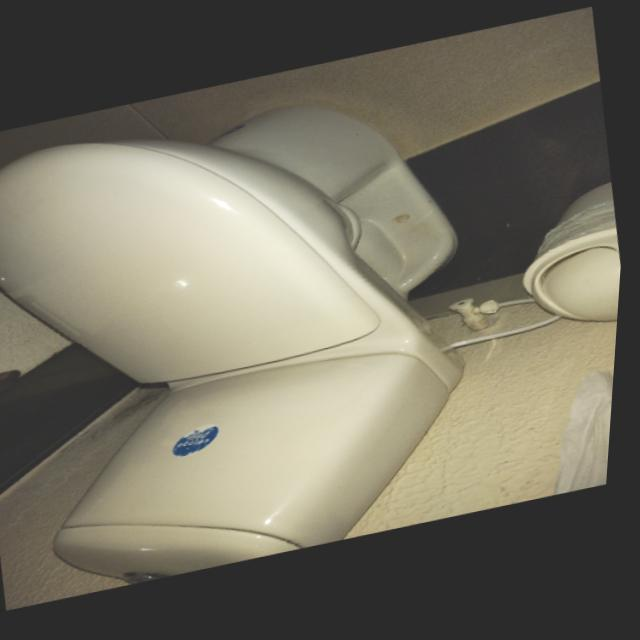toilet: (0, 67, 519, 613)
